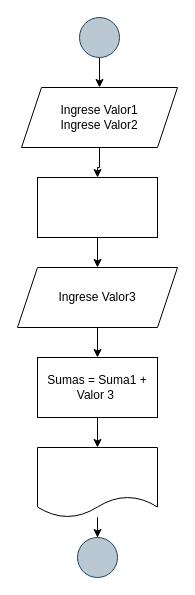
This 195x595 diagram has some shape labels left out. The centre of each missing label's shape, as x and y in pixels:
Print Sumas: the point at 97,482
Suma1 = Valor1 + Valor2: the point at 97,207
